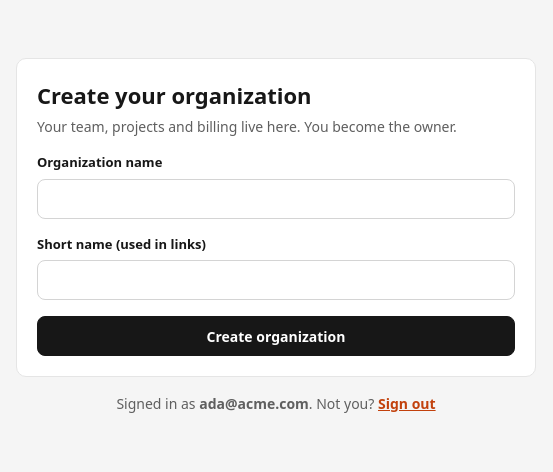
Test case: signed in › invalid short names are stopped before the server
Type "X" into the field labelled "Organization name". click: (276, 198)
box: [37,178,515,218]
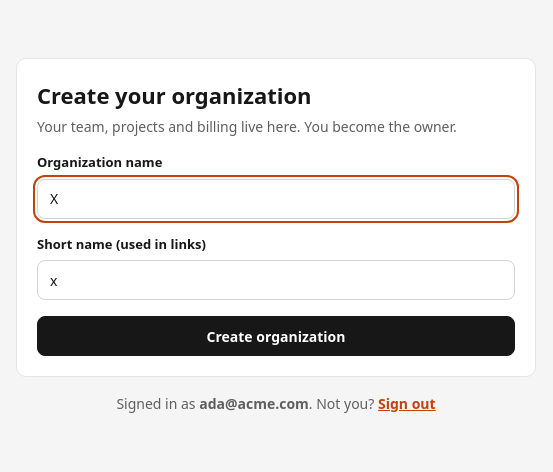
Click the button "Create organization". click: (276, 336)
box: [37,316,515,356]
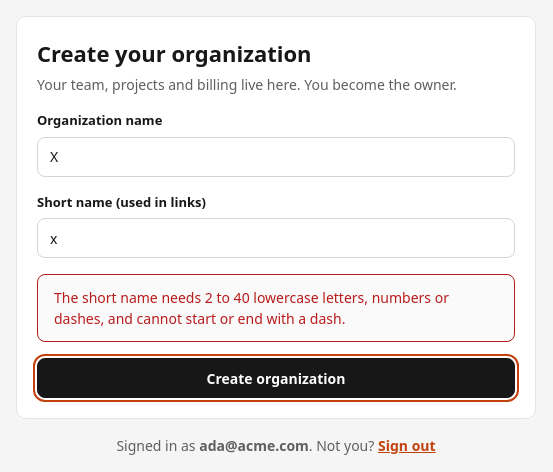
Check: the text "2 to 40 lowercase letters" is shown, box [54,288,449,328]
